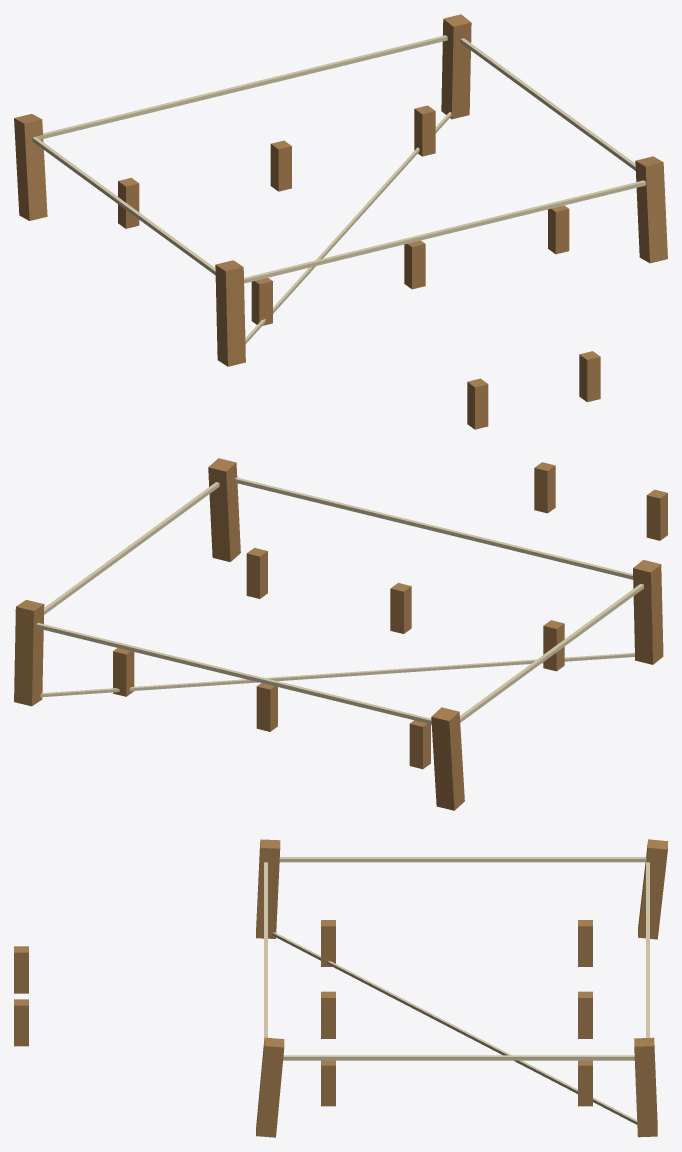
File: chicken-coop-planned.glb
3 views of the same model, one above another, from view 1: azimuth 30°, elevation 25°; view 2: azimuth 150°, elevation 25°; view 3: azimuth 270°, elevation 25° (orthographic). The views are drawn at different scales.
Visible parts, largest first — view 1: stakes, string_lines; view 2: stakes, string_lines; view 3: stakes, string_lines.
Boxes of the visible parts, x1,y1,x2,y2 form: stakes: [14, 14, 667, 429]; string_lines: [32, 35, 645, 343]; stakes: [14, 458, 667, 810]; string_lines: [36, 477, 643, 724]; stakes: [14, 839, 667, 1137]; string_lines: [264, 857, 649, 1124].
Bounding box in the file's own units: 1.96 × 0.4061 × 2.62.
